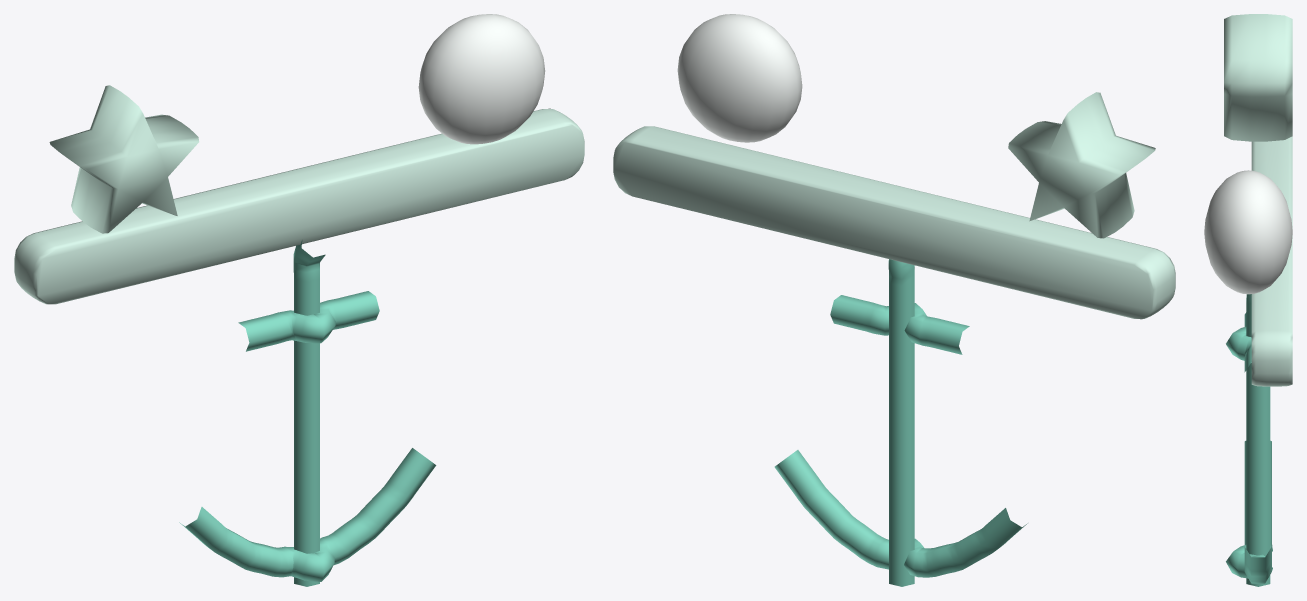
Rendered from decor_5_mint.glb.
3 renders of one model, left to right at view 1: azimuth 30°, elevation 25°; view 2: azimuth 150°, elevation 25°; view 3: azimuth 270°, elevation 25°, orthographic. The views are drawn at different scales.
Parts seen in each view (by area): view 1: decor_5_mint; view 2: decor_5_mint; view 3: decor_5_mint.
Part boxes in pixels (bbox=[...]): decor_5_mint: bbox=[14, 14, 584, 586]; decor_5_mint: bbox=[613, 14, 1175, 586]; decor_5_mint: bbox=[1204, 14, 1292, 586].
Bounding box in the file's own units: 8.46 × 7.78 × 1.29.
